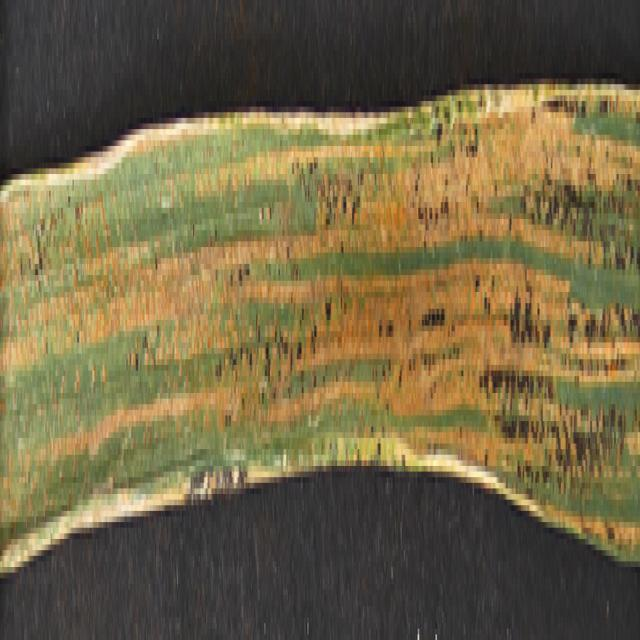leaf rust: (1, 79, 638, 550)
